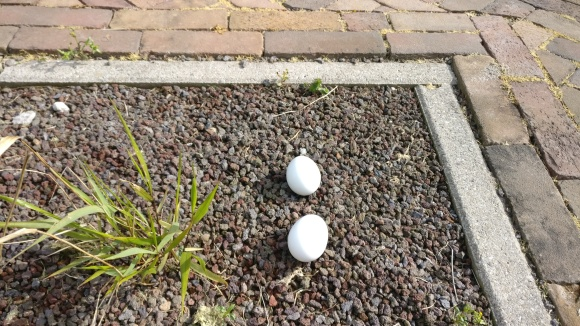egg: (287, 214, 328, 262), (286, 155, 321, 196)
